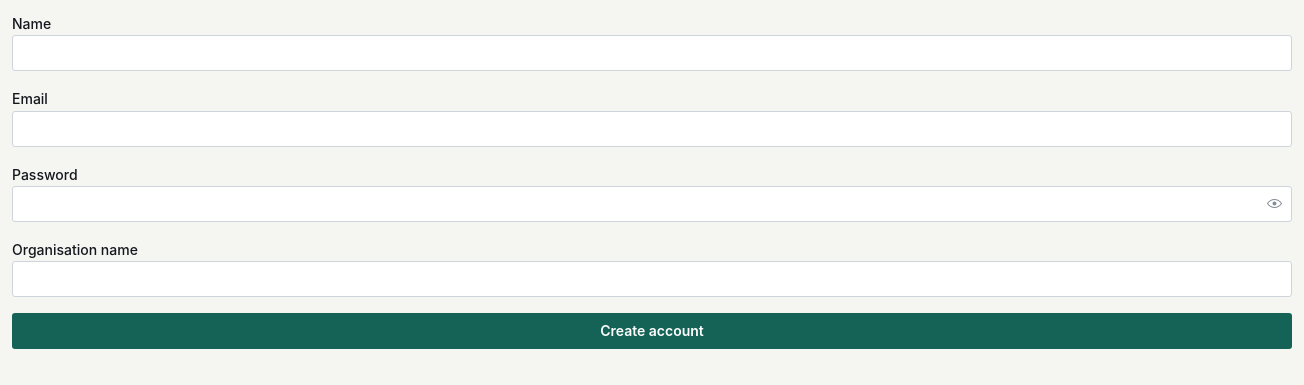
Test: SignUpForm › shows the email-taken error on the email field when the server returns a 409
Type "Priya Rao" into the field labelled "Name".
click(652, 53); type("Priya Rao")  # box [12,35,1292,71]
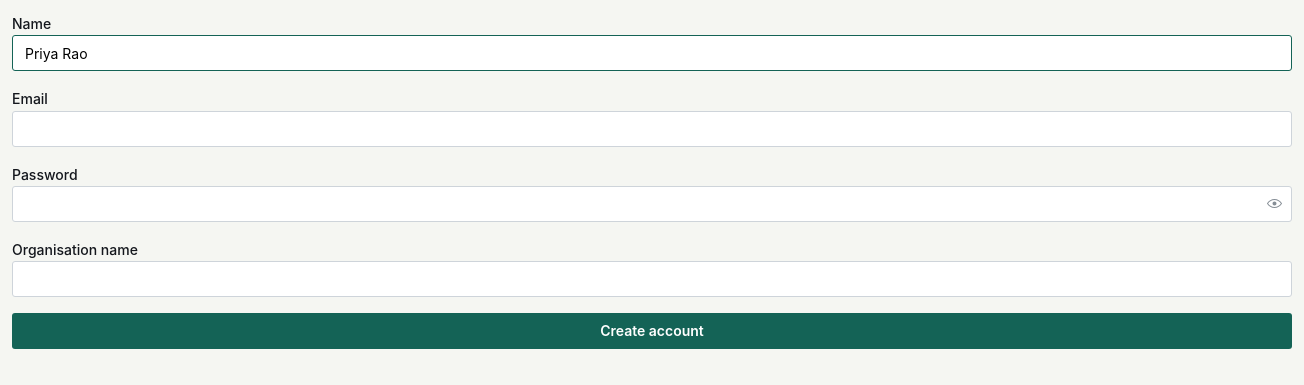
Type "priya@acme.com" into the field labelled "Email".
click(652, 128); type("priya@acme.com")  # box [12,110,1292,146]
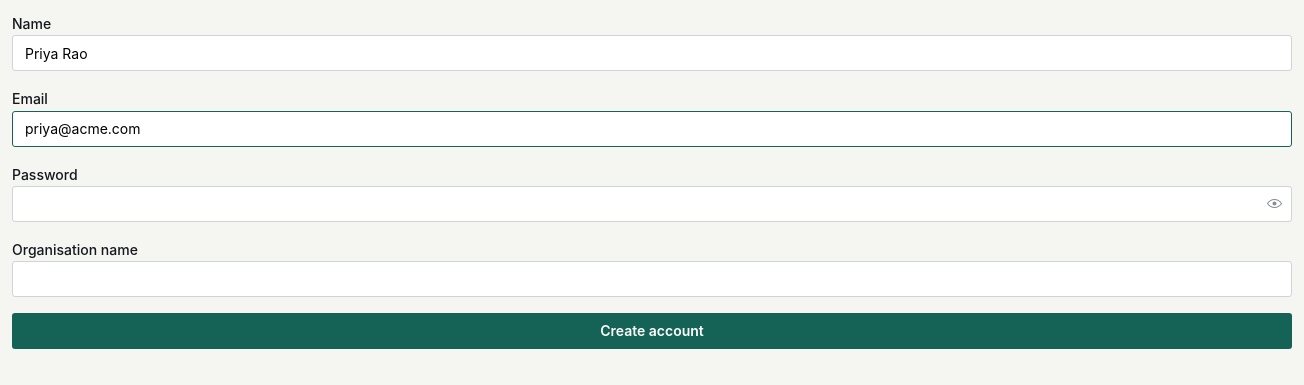
Type "s3cret-pass" into the password field labelled "Password".
click(652, 204); type("s3cret-pass")  # box [13,187,1291,221]
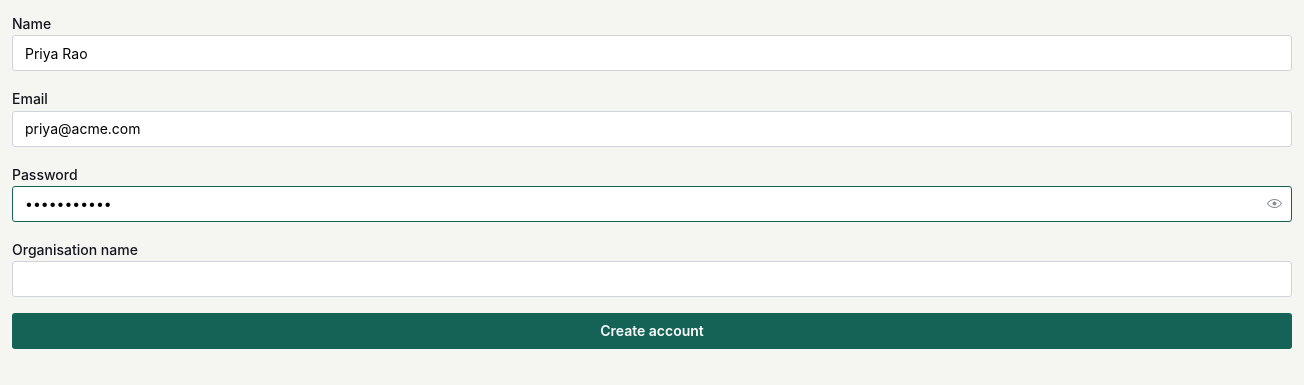
Type "ACME" into the field labelled "Organisation name".
click(652, 279); type("ACME")  # box [12,261,1292,297]
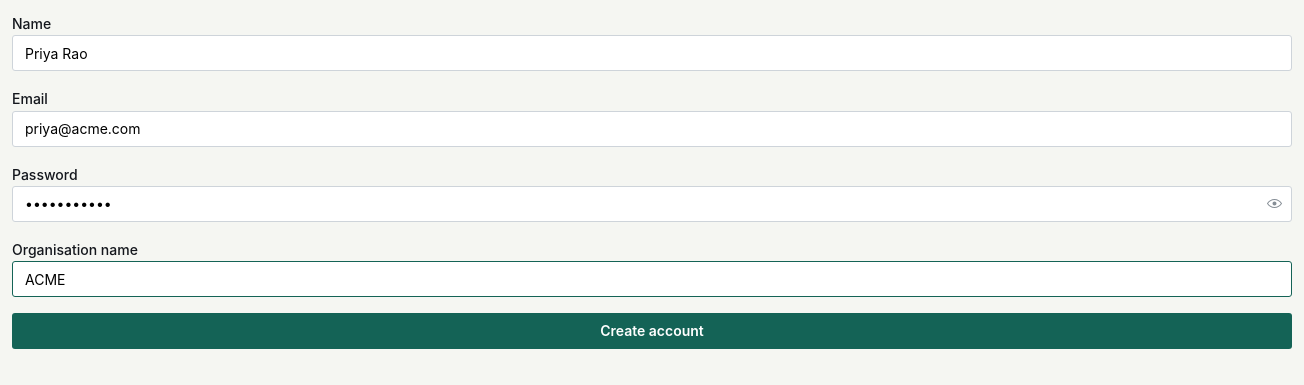
Click the button "Create account".
click(652, 331)  # box [12,313,1292,349]
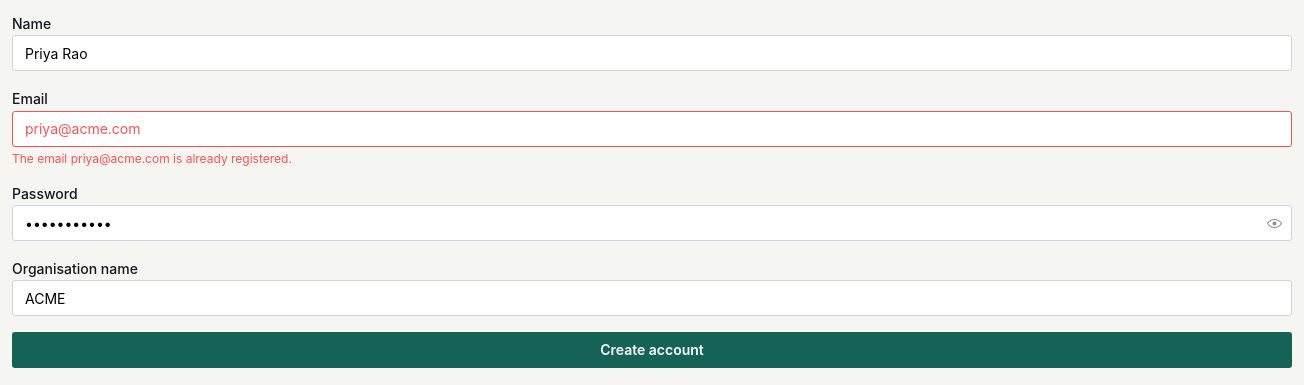
Expected: the text "The email priya@acme.com is already registered." is shown, [12,150,292,166]
